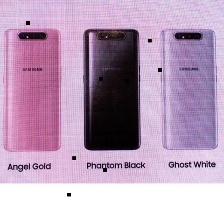phone: (0, 24, 65, 154), (78, 24, 144, 152), (157, 25, 219, 153)
